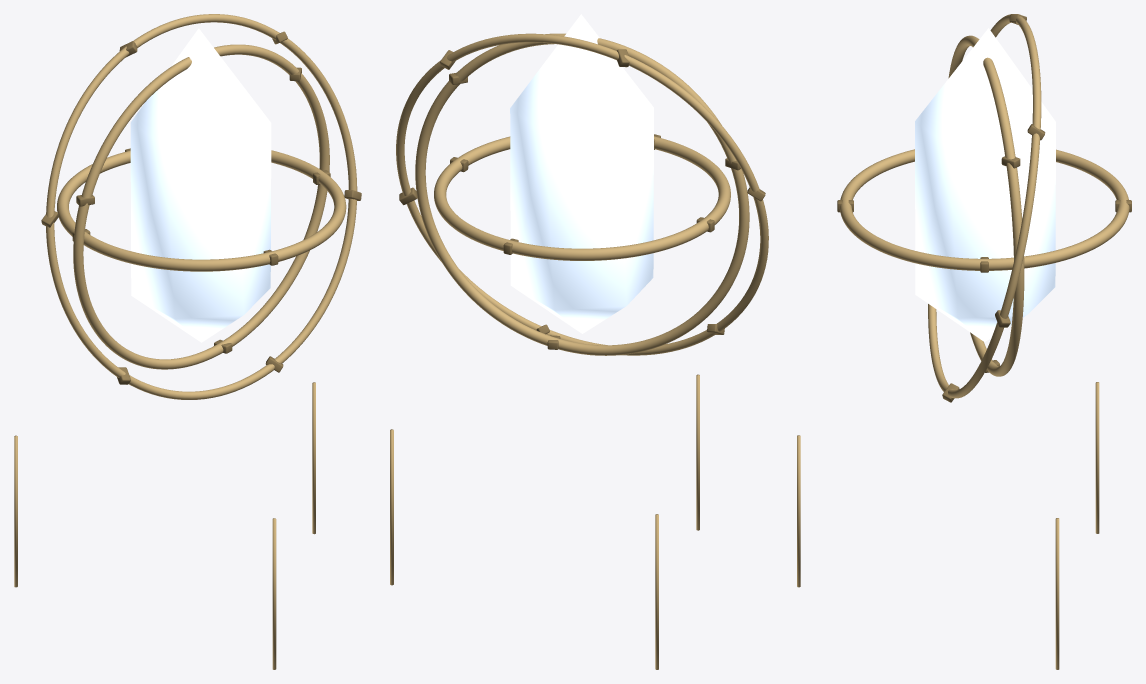
Rendered from artifact.glb.
3 renders of one model, left to right at view 1: azimuth 30°, elevation 25°; view 2: azimuth 150°, elevation 25°; view 3: azimuth 270°, elevation 25°, orthographic. The views are drawn at different scales.
Visible parts, largest first — view 1: crystal, ring_z, ring_y, ring_x, rod_2, rod_0, rod_1; view 2: crystal, ring_y, ring_z, ring_x, rod_0, rod_2, rod_1; view 3: crystal, ring_x, ring_z, ring_y, rod_0, rod_1, rod_2.
Part boxes in pixels (x1=…): crystal: x1=130, y1=28, x2=271, y2=342; ring_z: x1=46, y1=14, x2=357, y2=399; ring_y: x1=73, y1=44, x2=329, y2=369; ring_x: x1=57, y1=150, x2=346, y2=271; rod_2: x1=272, y1=518, x2=276, y2=669; rod_0: x1=312, y1=382, x2=315, y2=534; rod_1: x1=14, y1=435, x2=17, y2=587; crystal: x1=510, y1=14, x2=653, y2=333; ring_y: x1=415, y1=33, x2=749, y2=355; ring_z: x1=396, y1=33, x2=768, y2=355; ring_x: x1=434, y1=136, x2=730, y2=260; rod_0: x1=390, y1=429, x2=393, y2=585; rod_2: x1=696, y1=374, x2=699, y2=530; rod_1: x1=655, y1=514, x2=658, y2=669; crystal: x1=915, y1=28, x2=1055, y2=341; ring_x: x1=840, y1=149, x2=1129, y2=270; ring_z: x1=928, y1=14, x2=1041, y2=398; ring_y: x1=948, y1=35, x2=1024, y2=376; rod_0: x1=1055, y1=518, x2=1059, y2=669; rod_1: x1=1095, y1=382, x2=1099, y2=533; rod_2: x1=797, y1=435, x2=800, y2=587.
Bounding box in the file's own units: 1.29 × 2.07 × 1.11.
